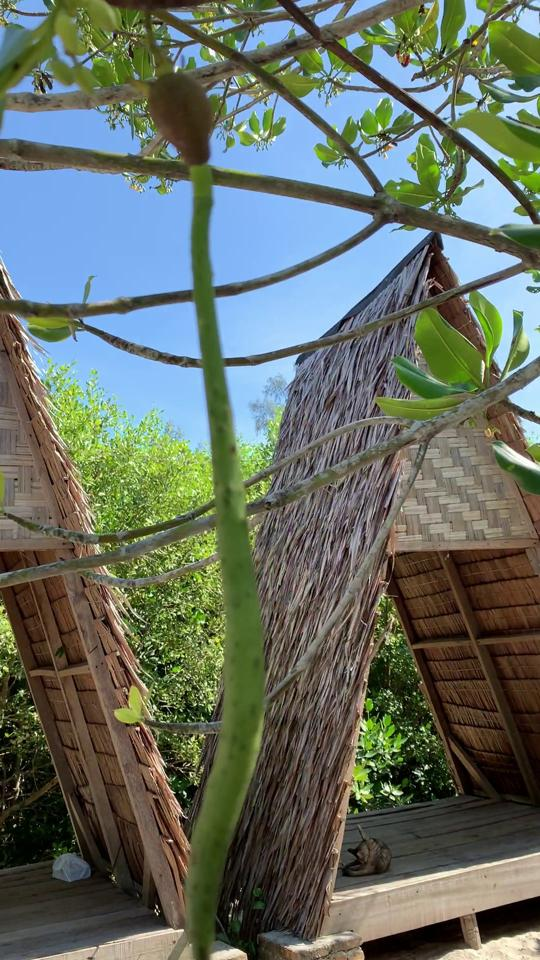setengah matang: (133, 53, 280, 953)
